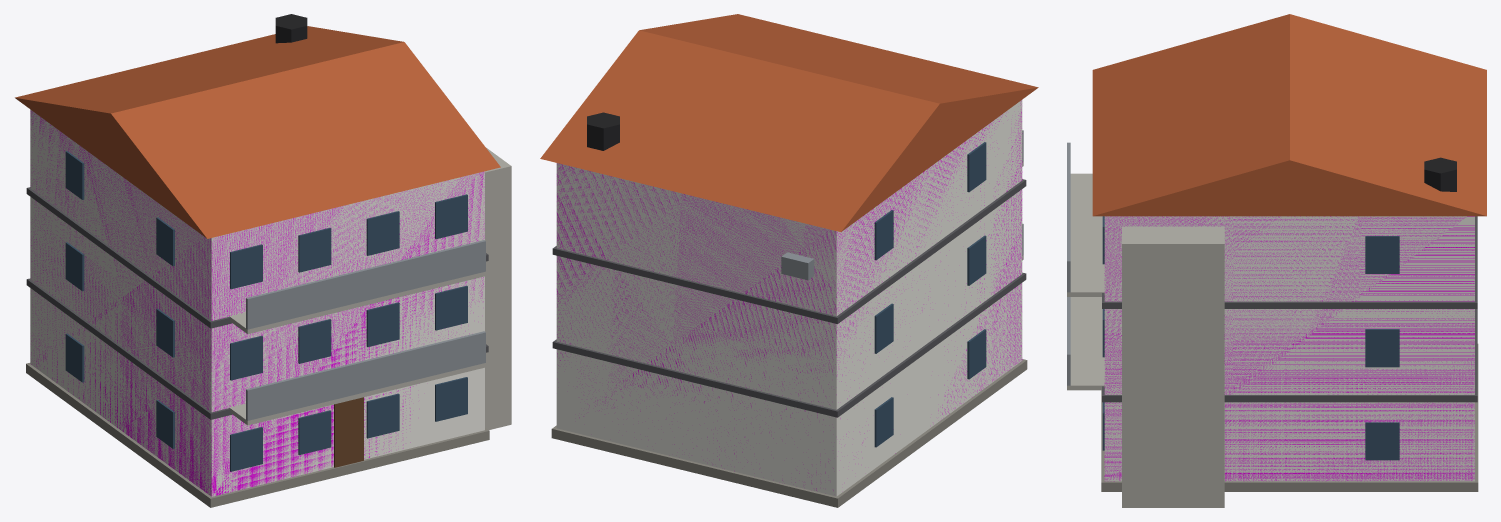
Rendered from Apartment_3S_01.glb.
3 views of the same model, side by side, from view 1: azimuth 30°, elevation 25°; view 2: azimuth 150°, elevation 25°; view 3: azimuth 270°, elevation 25° (orthographic). The views are drawn at different scales.
Parts seen in each view (by area): view 1: Apartment_3S_01, Apartment_3S_01_COL; view 2: Apartment_3S_01, Apartment_3S_01_COL; view 3: Apartment_3S_01, Apartment_3S_01_COL.
Part boxes in pixels (bbox=[...]): Apartment_3S_01: bbox=[15, 14, 511, 507]; Apartment_3S_01_COL: bbox=[30, 111, 484, 496]; Apartment_3S_01: bbox=[540, 14, 1038, 507]; Apartment_3S_01_COL: bbox=[556, 101, 1022, 490]; Apartment_3S_01: bbox=[1067, 14, 1486, 507]; Apartment_3S_01_COL: bbox=[1104, 216, 1474, 481].
Bounding box in the file's own units: 10.95 × 10.8 × 12.25.
